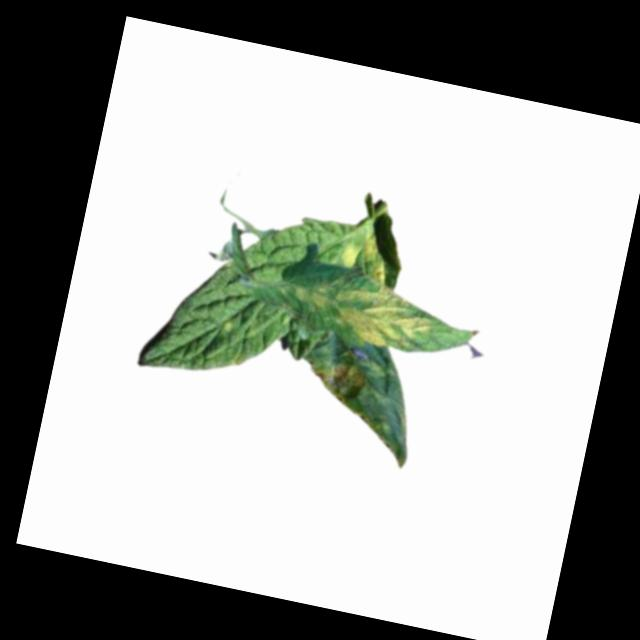Leaf_Mold: (286, 268, 437, 355), (302, 353, 377, 414), (340, 229, 393, 285)
